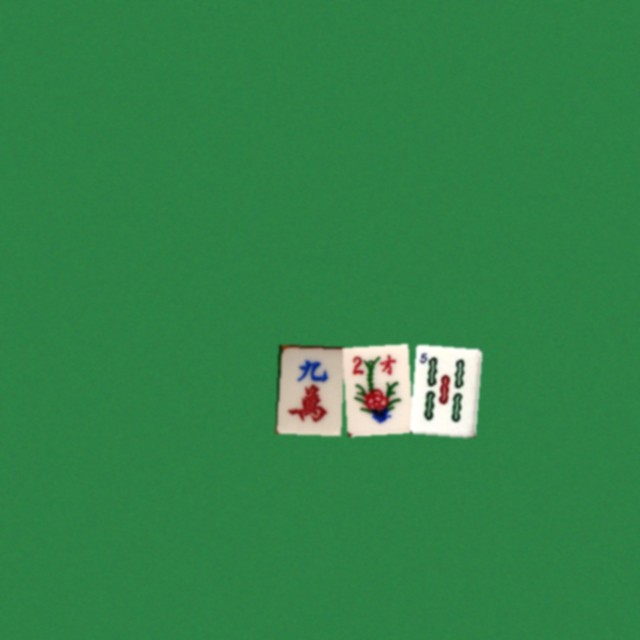tile: (275, 344, 341, 433), (342, 344, 408, 433), (409, 344, 475, 433)
